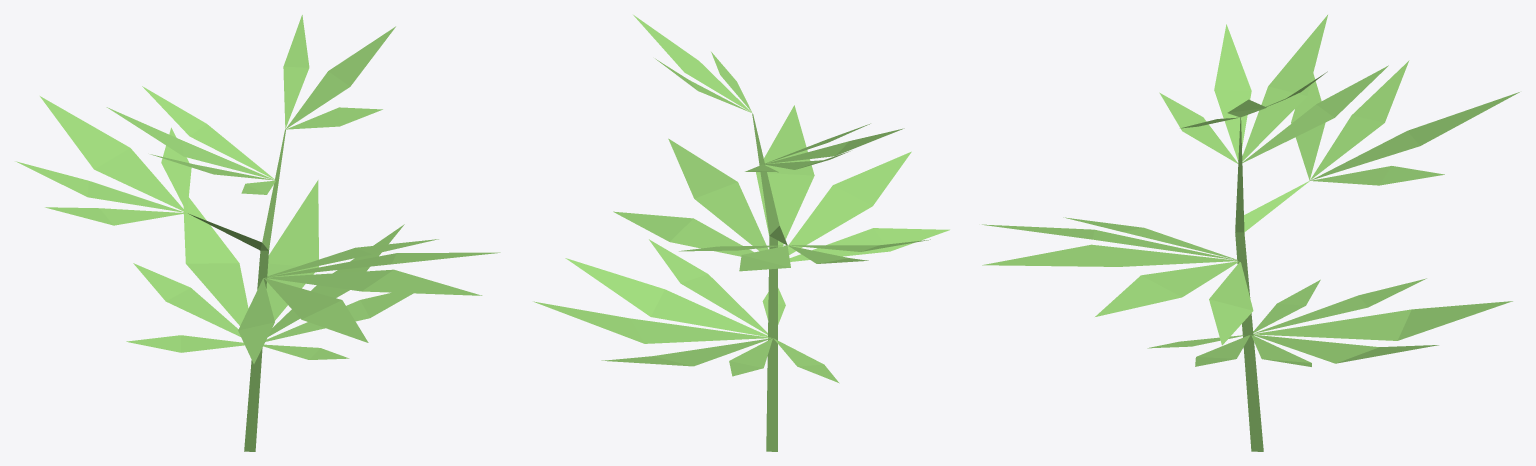
File: Plant_i_OneS_06.fbx
3 renders of one model, left to right at view 1: azimuth 30°, elevation 25°; view 2: azimuth 150°, elevation 25°; view 3: azimuth 270°, elevation 25°, orthographic. The views are drawn at different scales.
Visible parts, largest first — view 1: Plant_i_OneS_06; view 2: Plant_i_OneS_06; view 3: Plant_i_OneS_06.
Part boxes in pixels (<box>): Plant_i_OneS_06: <box>15,15,500,451</box>; Plant_i_OneS_06: <box>533,15,949,451</box>; Plant_i_OneS_06: <box>982,15,1519,451</box>.
Bounding box in the file's own units: 0.454 × 0.4704 × 0.5427.
